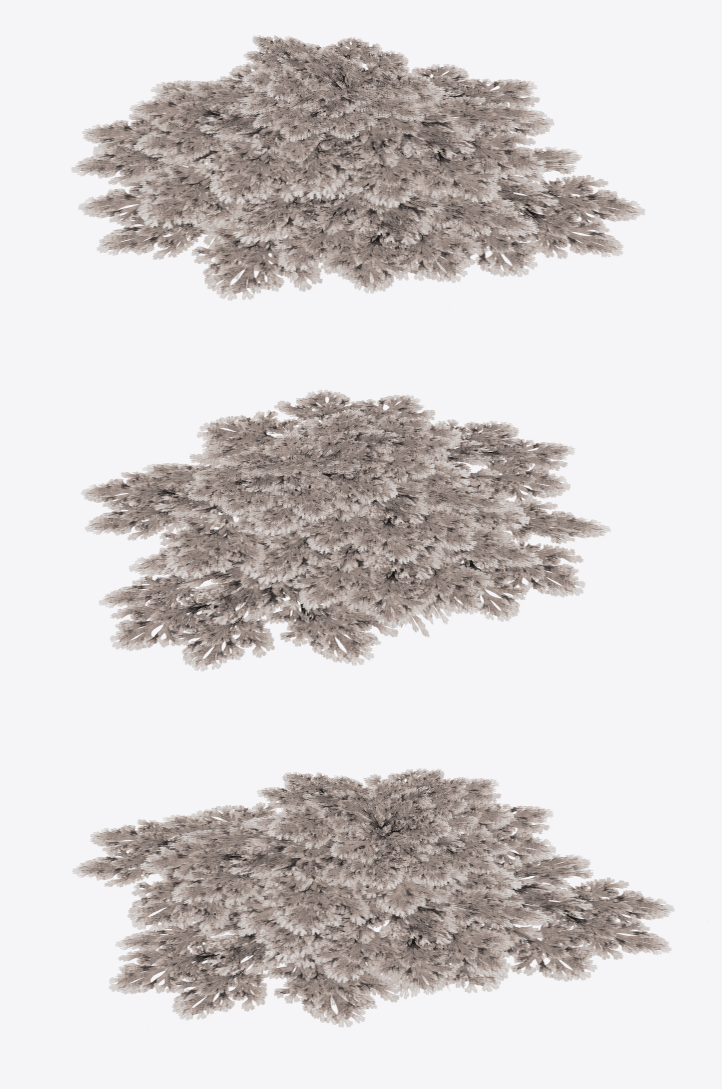
File: Coral-Medium_LOD0_FattooCreater.glb
3 renders of one model, top to bottom at view 1: azimuth 30°, elevation 25°; view 2: azimuth 150°, elevation 25°; view 3: azimuth 270°, elevation 25°, orthographic. The views are drawn at different scales.
Parts seen in each view (by area): view 1: Coral-Medium_LOD0; view 2: Coral-Medium_LOD0; view 3: Coral-Medium_LOD0.
Part boxes in pixels (x1,y1,x2,y2): Coral-Medium_LOD0: (71,35,644,300); Coral-Medium_LOD0: (81,390,610,671); Coral-Medium_LOD0: (72,768,674,1027).
Bounding box in the file's own units: 0.2356 × 0.0673 × 0.2296.
Materials: 1 (1 with a texture image).
